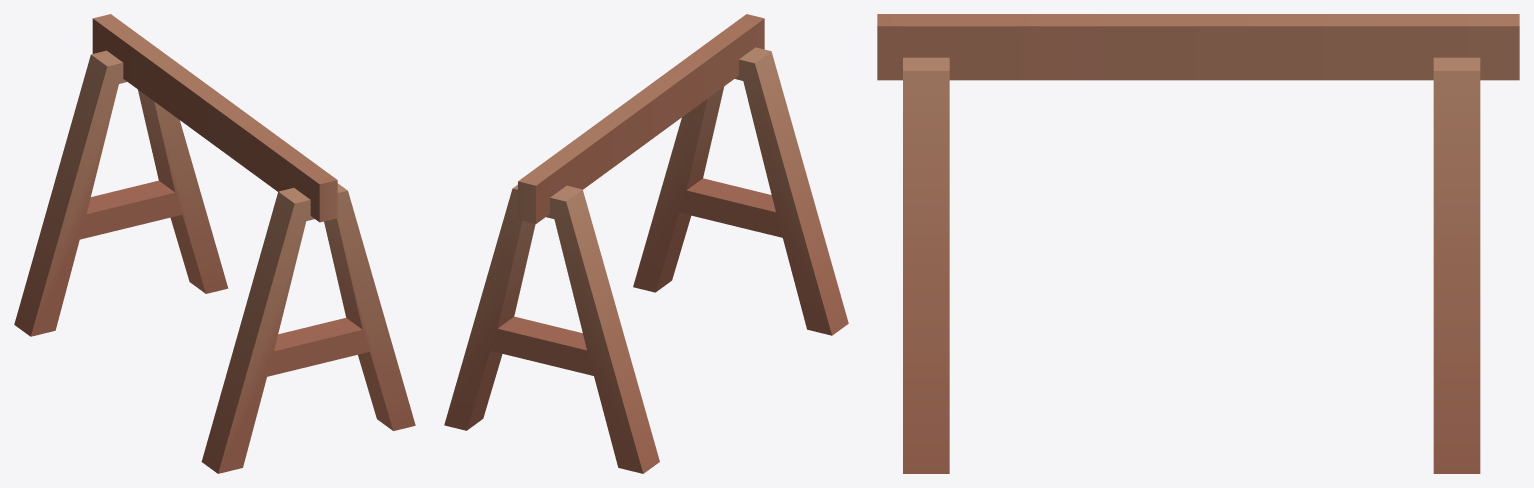
Rendered from B02_barriere.fbx.
3 renders of one model, left to right at view 1: azimuth 30°, elevation 25°; view 2: azimuth 150°, elevation 25°; view 3: azimuth 270°, elevation 25°, orthographic. The views are drawn at different scales.
Parts seen in each view (by area): view 1: B02_barriere; view 2: B02_barriere; view 3: B02_barriere.
Boxes of the visible parts, x1=… form: B02_barriere: x1=14, y1=14, x2=415, y2=473; B02_barriere: x1=444, y1=14, x2=848, y2=473; B02_barriere: x1=877, y1=14, x2=1519, y2=473.
Bounding box in the file's own units: 106 × 141 × 212.
